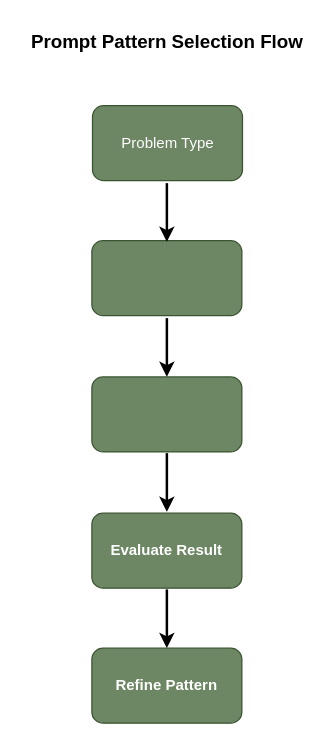
The diagram is 334 pixels wide and 745 high, and some of its shapes have lost their labels. The shapes that lost their labels are listed below. From the top down, each one's centre as x and y in pixels, then its label:
the point at 166,277: Select Prompt Pattern
the point at 166,414: Apply Prompt
